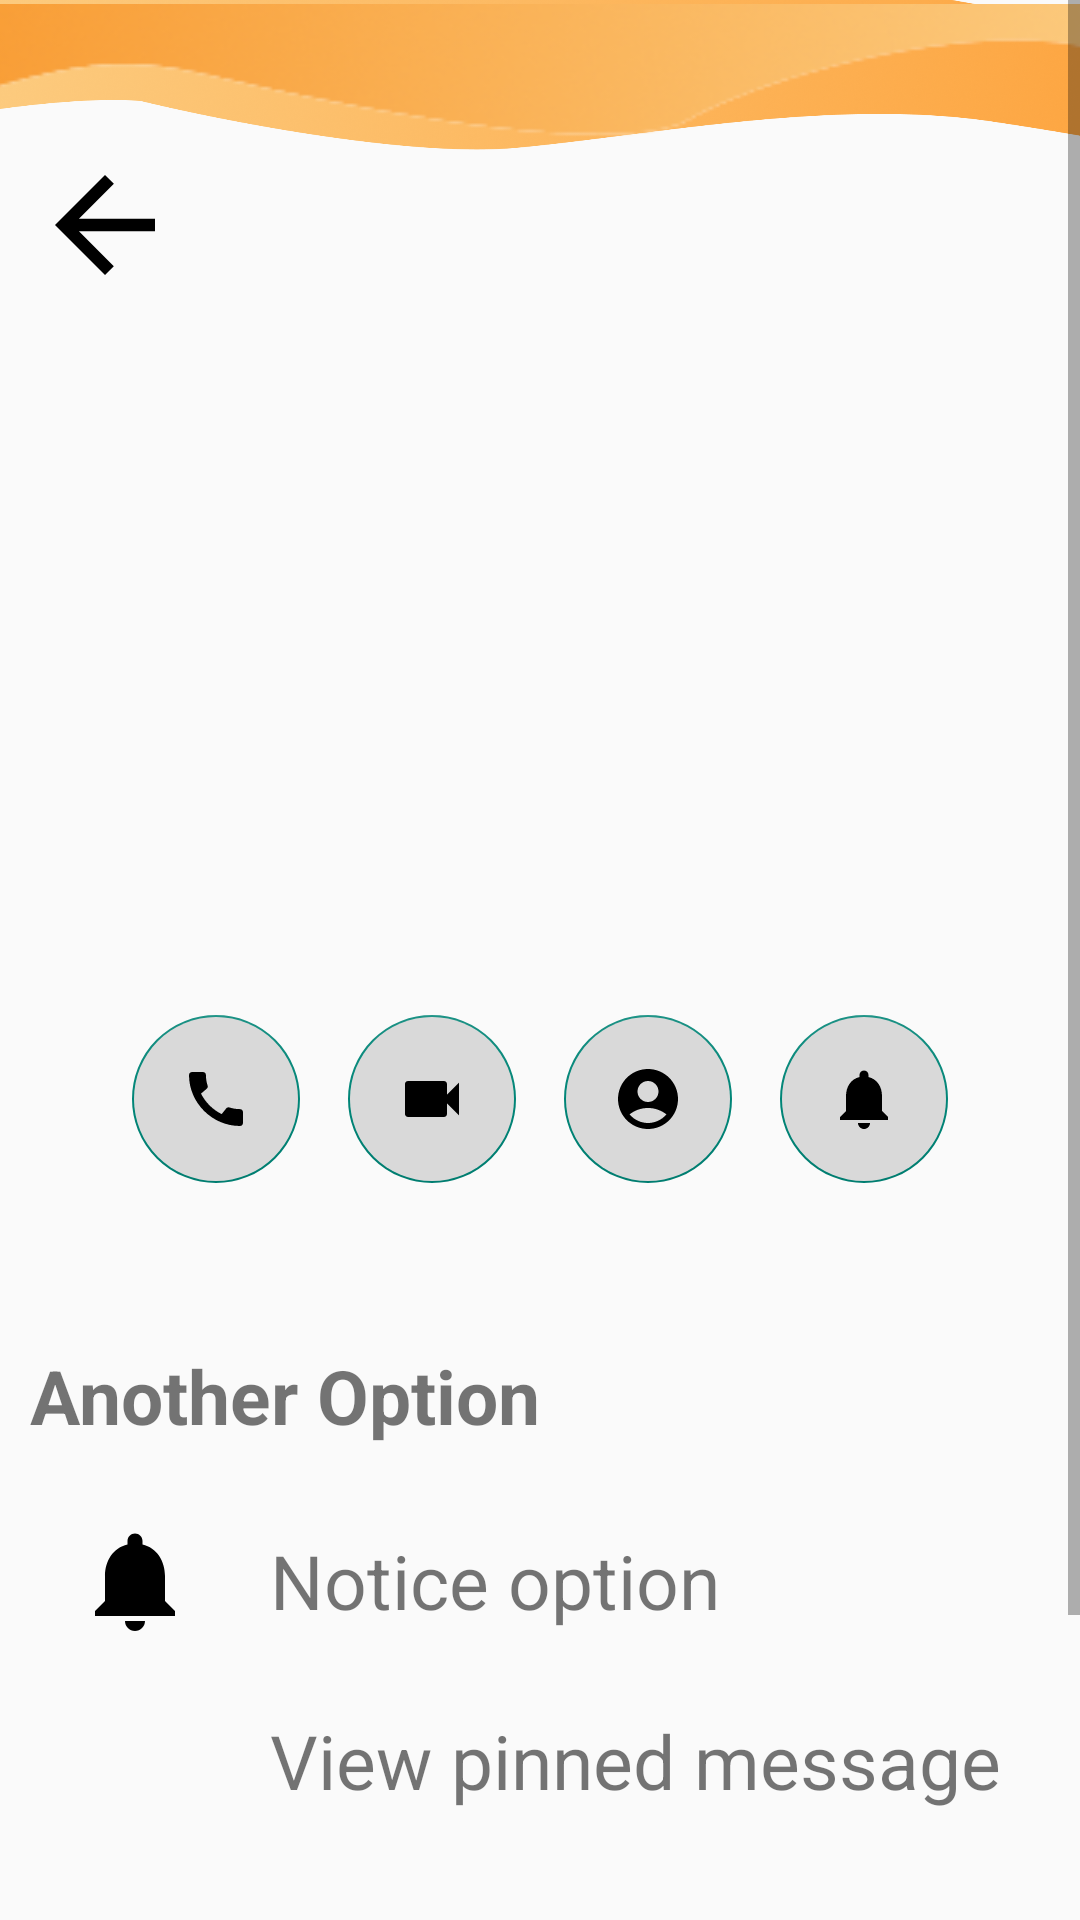

Named icons in this screenshot (1080*1920) and their bounding boxes, (x1, y1, x2, y2):
account: (564, 1015, 732, 1183)
arrow back: (55, 175, 155, 275)
call: (132, 1015, 300, 1183)
notifications: (780, 1015, 948, 1183), (95, 1533, 175, 1631)
videocall: (348, 1015, 516, 1183)
